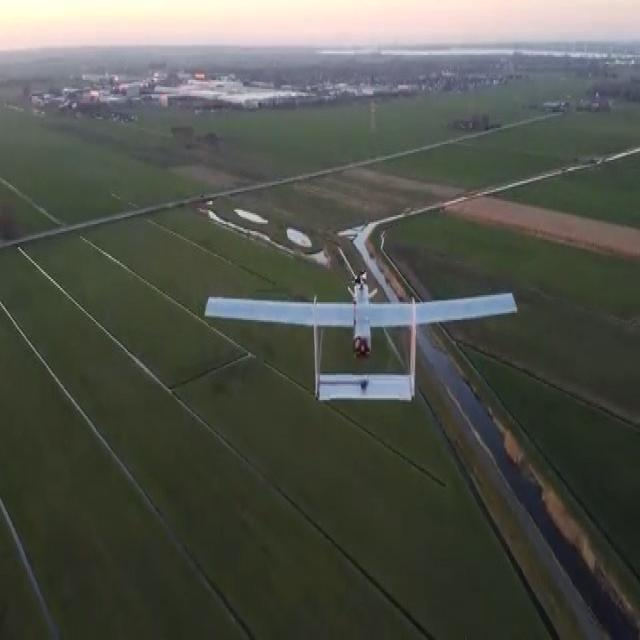iha: (204, 318, 518, 373)
